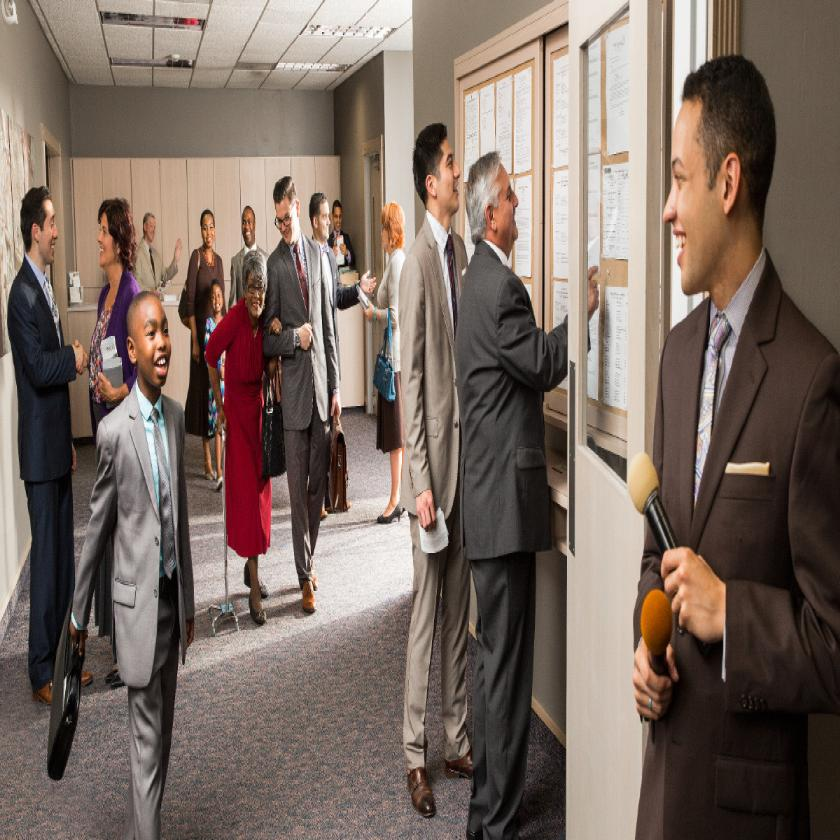Sin_casco: (659, 40, 782, 330), (464, 150, 522, 265), (125, 285, 180, 395), (414, 114, 462, 232), (18, 178, 61, 278), (95, 194, 136, 278), (271, 173, 302, 242), (244, 251, 267, 326), (378, 201, 408, 258), (308, 188, 331, 251), (240, 206, 258, 253), (200, 206, 217, 250), (140, 208, 158, 248), (208, 282, 225, 320)
